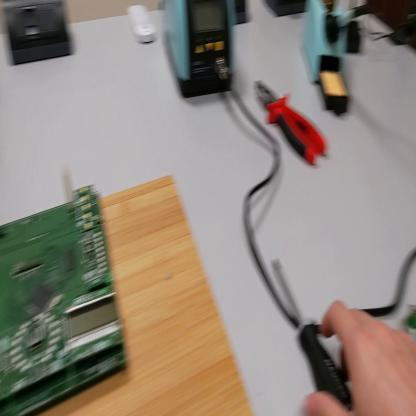hand: (307, 297, 416, 416)
high voltage board: (400, 307, 416, 340)
low voltage board: (2, 183, 128, 415)
pliers: (255, 80, 330, 169)
screwdriver-: (276, 259, 350, 414)
socket: (263, 1, 306, 19), (235, 2, 249, 24)
welder base: (304, 2, 353, 115)
welder probe tip: (332, 3, 374, 41)
welder station: (163, 2, 235, 100)
working area: (2, 178, 252, 413)
